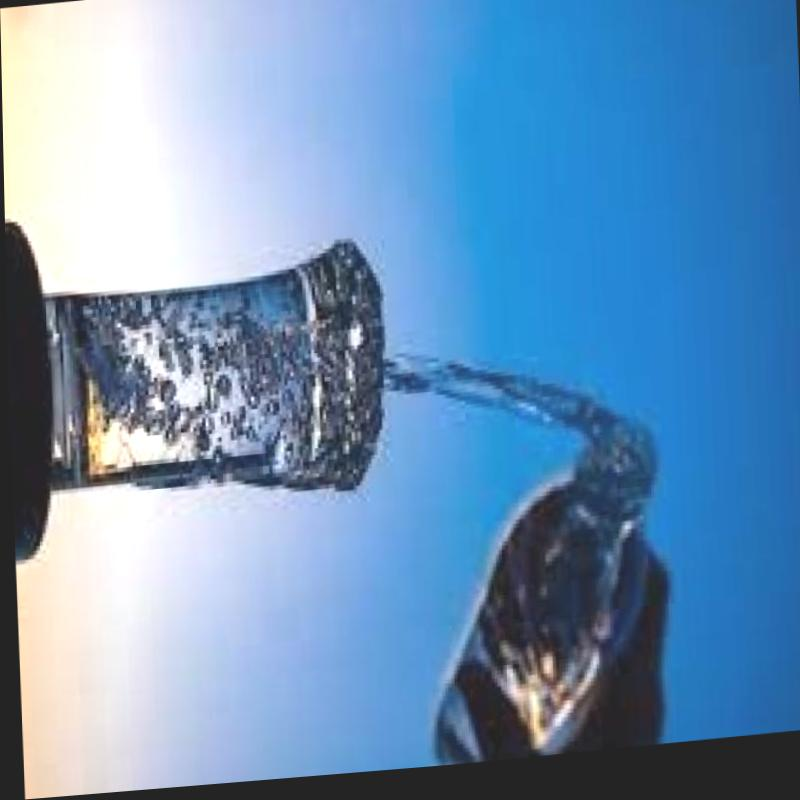botella: (419, 411, 666, 773)
